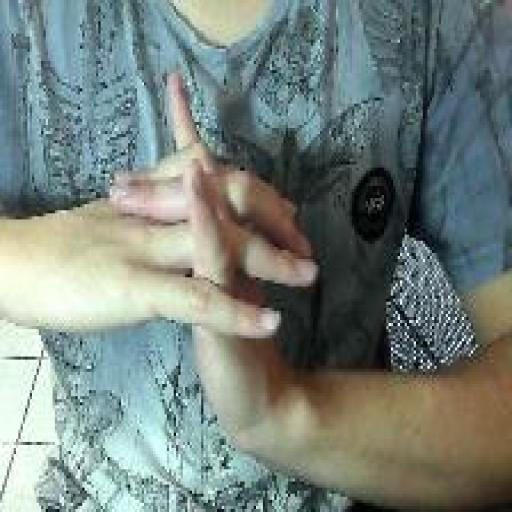Ushi -ox-: (105, 67, 322, 475)
